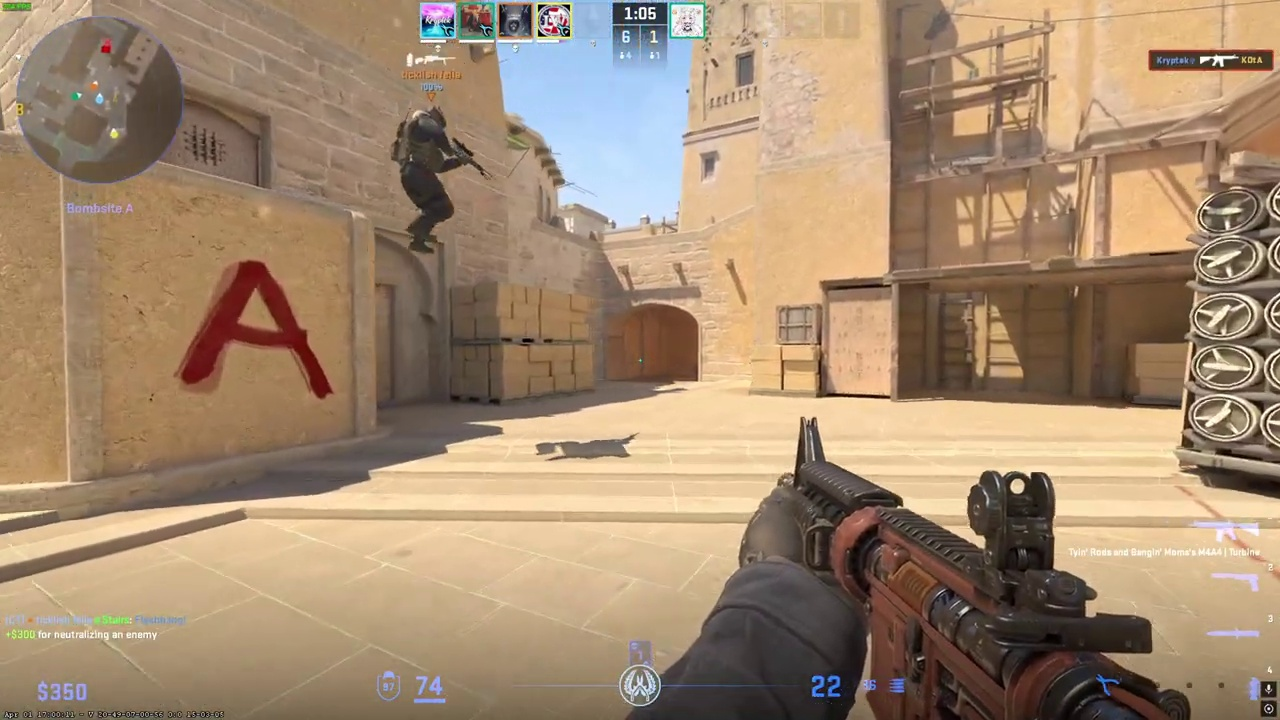CT: (399, 106, 461, 253)
